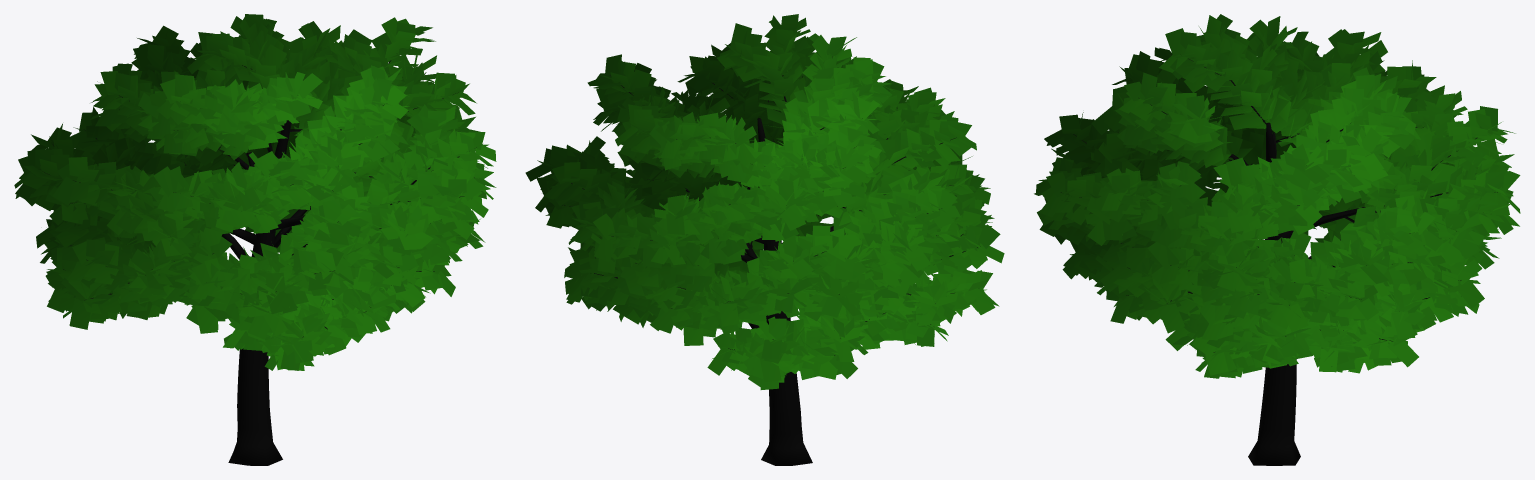
Rendered from boom.fbx.
3 renders of one model, left to right at view 1: azimuth 30°, elevation 25°; view 2: azimuth 150°, elevation 25°; view 3: azimuth 270°, elevation 25°, orthographic. The views are drawn at different scales.
Parts seen in each view (by area): view 1: Bladeren; view 2: Bladeren; view 3: Bladeren.
Part boxes in pixels (x1,y1,x2,y2): Bladeren: [14, 14, 496, 465]; Bladeren: [525, 14, 1004, 465]; Bladeren: [1034, 14, 1520, 465].
Size of the model in its own units: 8.07 by 7.78 by 7.39.
